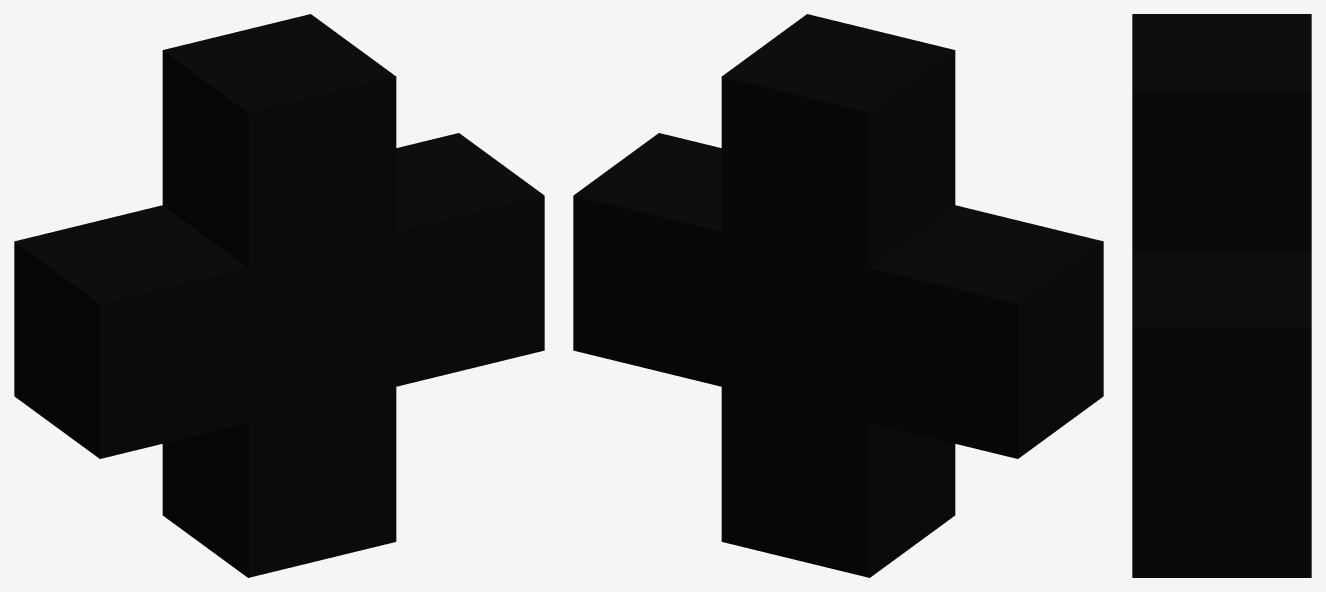
Rendered from AriplaneProp.obj.
3 views of the same model, side by side, from view 1: azimuth 30°, elevation 25°; view 2: azimuth 150°, elevation 25°; view 3: azimuth 270°, elevation 25° (orthographic). The views are drawn at different scales.
Bounding box in the file's own units: 0.3 × 0.3 × 0.1.
Materials: 1 (1 with a texture image).
